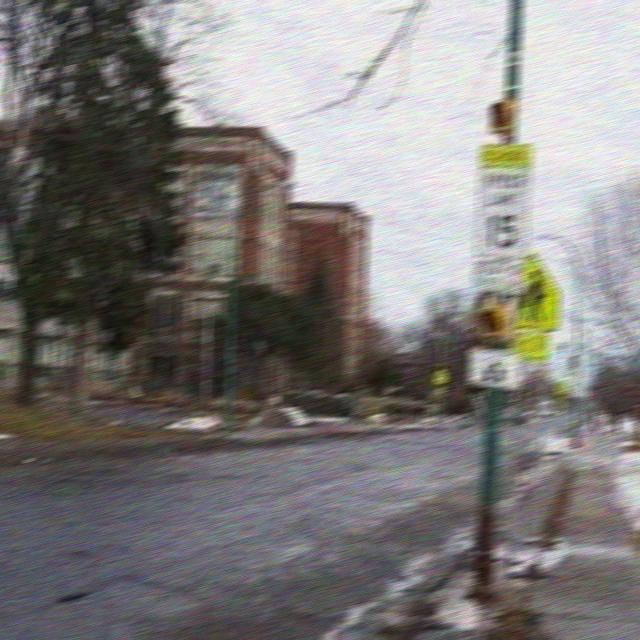speedLimit15: (472, 166, 530, 255)
